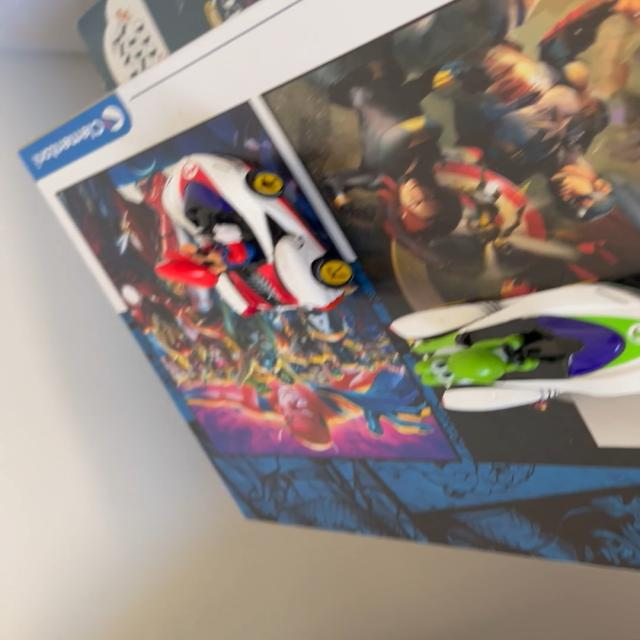mario: (144, 149, 373, 334)
yoshi: (378, 272, 640, 428)
